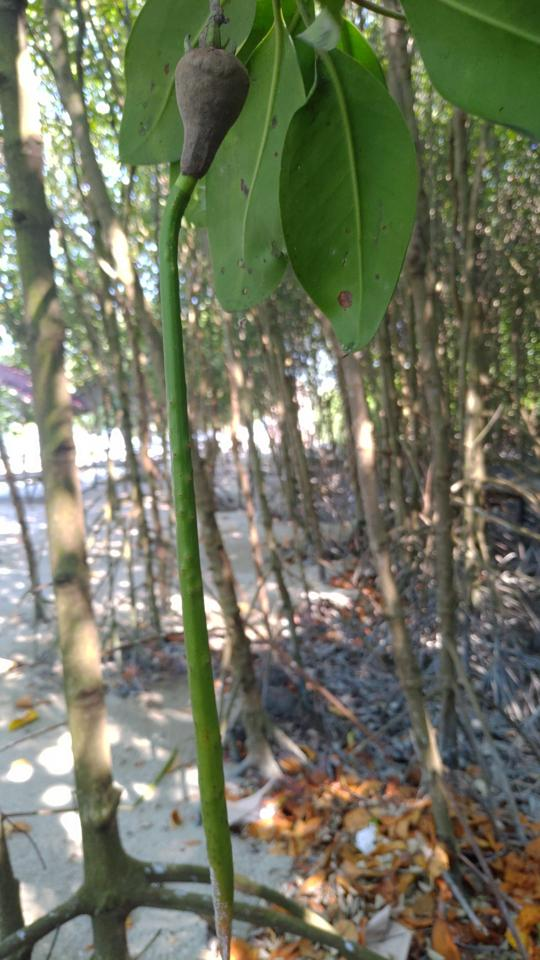setengah matang: (147, 26, 272, 956)
